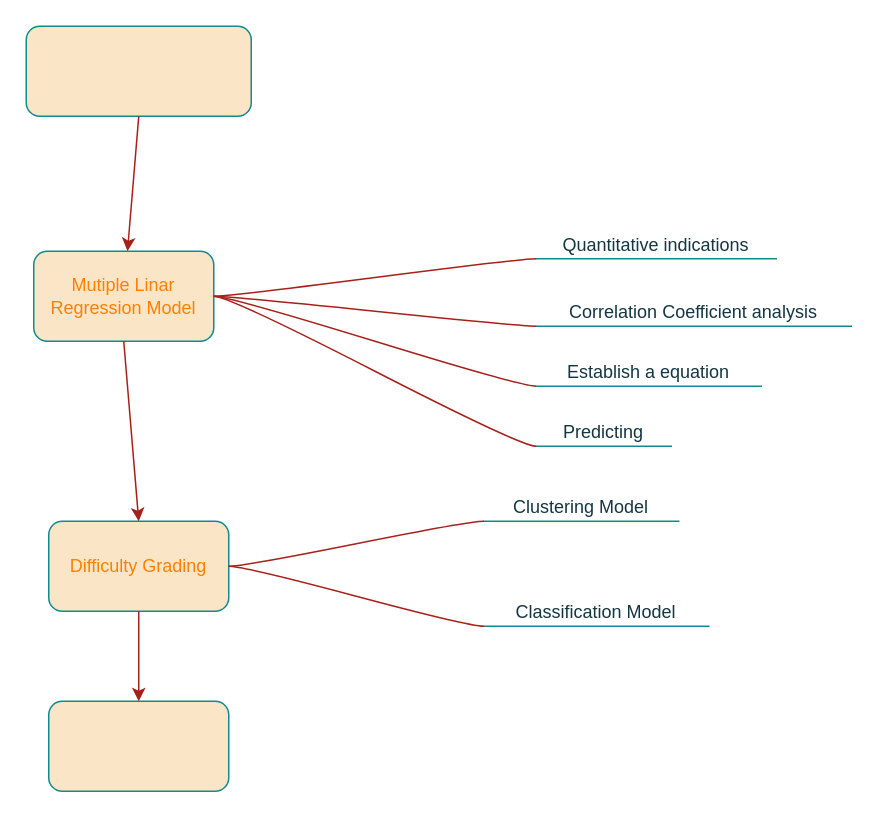
Image size: 878x818. Some labels were removed from this diagram. The shapes that lost their labels are listed below. From the top down, each one's centre as x and y in pixels, then its label:
(138,70): Time Series Analysis (Damped Trend Model)
(138,745): Database Analysis (Information Entropy)
